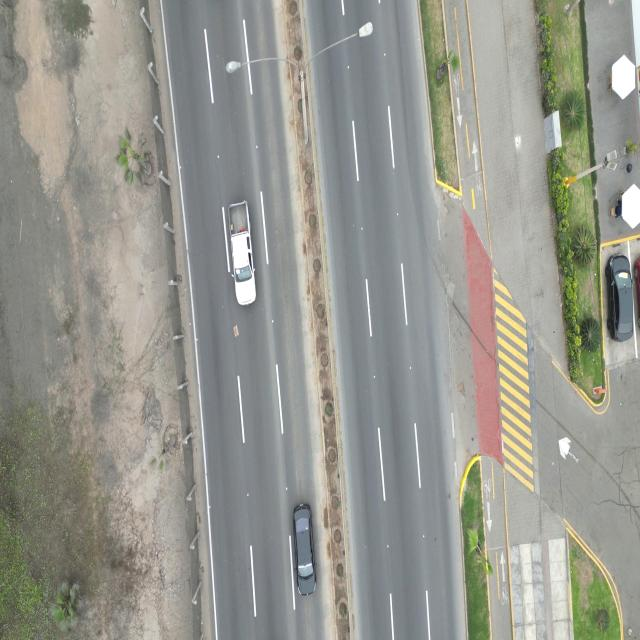Car: (289, 501, 319, 608), (228, 199, 256, 307)
